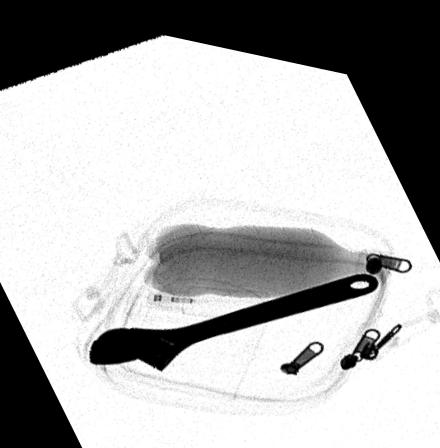Wrench: (89, 256, 382, 364)
